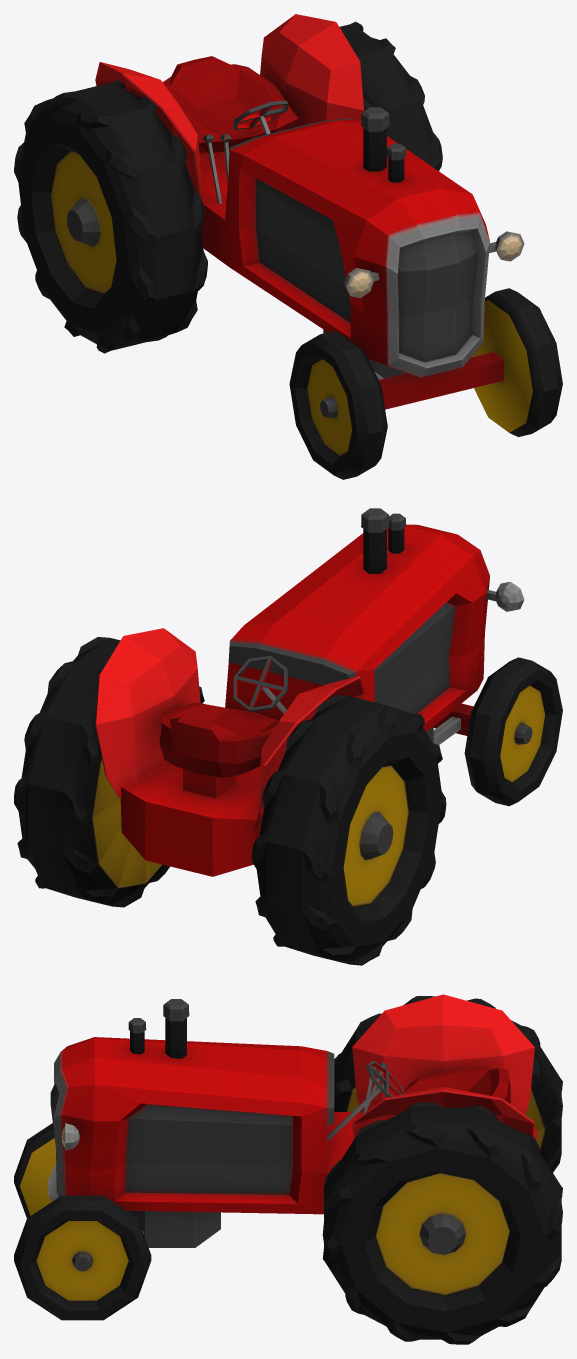
Rendered from tractor.glb.
The picture shows the model from 3 angles, top to bottom: view 1: azimuth 30°, elevation 25°; view 2: azimuth 150°, elevation 25°; view 3: azimuth 270°, elevation 25°; orthographic projection. The views are drawn at different scales.
Visible parts, largest first — view 1: Tractor_mesh; view 2: Tractor_mesh; view 3: Tractor_mesh.
Boxes of the visible parts, x1,y1,x2,y2 form: Tractor_mesh: [14, 14, 562, 479]; Tractor_mesh: [14, 508, 562, 965]; Tractor_mesh: [14, 994, 562, 1344].
Bounding box in the file's own units: 2.82 × 2.6 × 4.67.
1 material, 1 textured.
